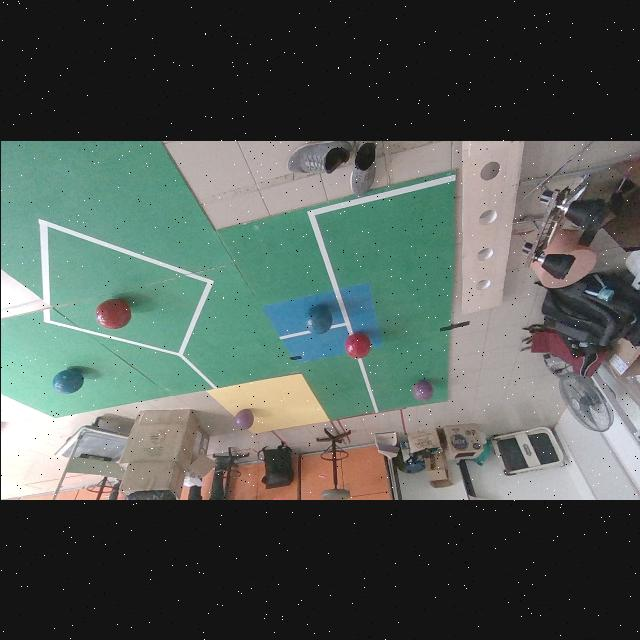B: (51, 369, 84, 394), (305, 305, 331, 334)
P: (412, 380, 432, 401), (234, 409, 253, 429)
R: (94, 299, 130, 328), (344, 332, 370, 358)
